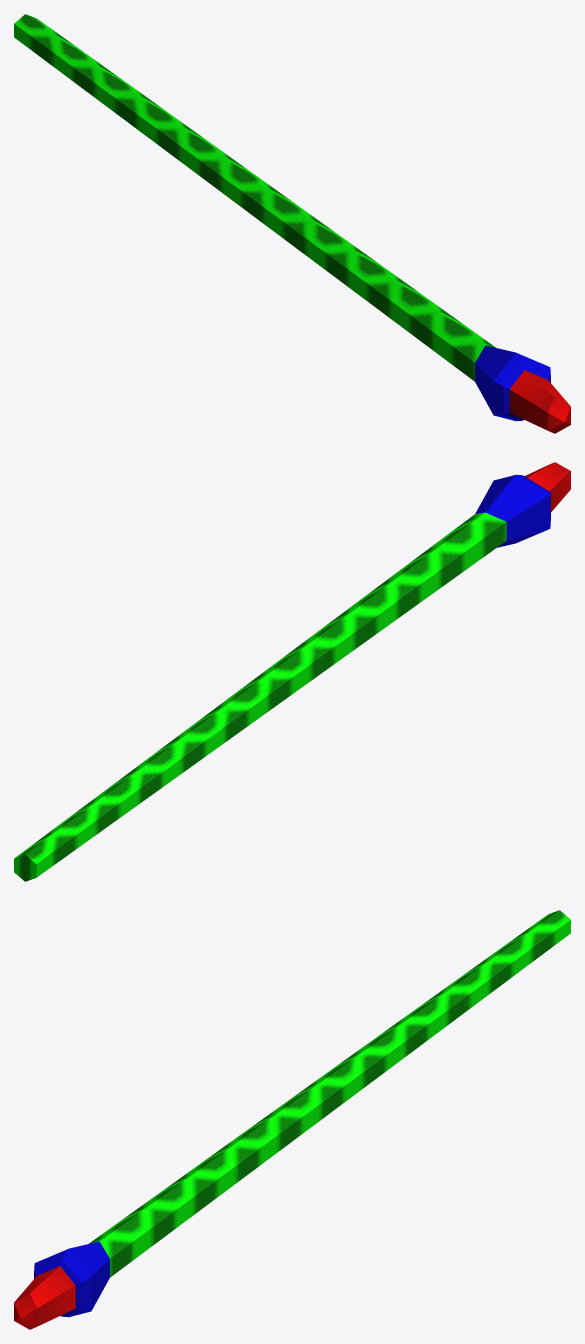
Rendered from StaffBasic_A.fbx.
3 renders of one model, top to bottom at view 1: azimuth 30°, elevation 25°; view 2: azimuth 150°, elevation 25°; view 3: azimuth 330°, elevation 25°, orthographic.
Parts seen in each view (by area): view 1: StaffBasic_A; view 2: StaffBasic_A; view 3: StaffBasic_A.
Part boxes in pixels (x1,y1,x2,y2): StaffBasic_A: (14, 14, 570, 433); StaffBasic_A: (14, 462, 570, 881); StaffBasic_A: (14, 910, 570, 1329).
Bounding box in the file's own units: 11.64 × 13.44 × 191.
